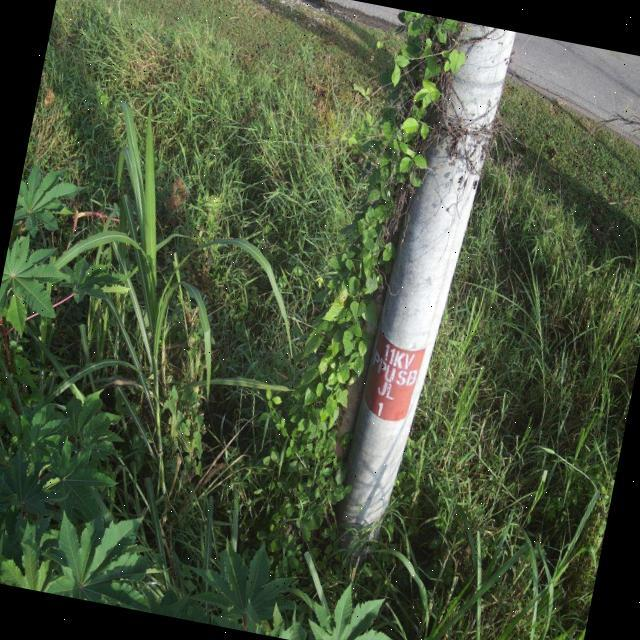critical vegetation: (244, 0, 531, 540)
